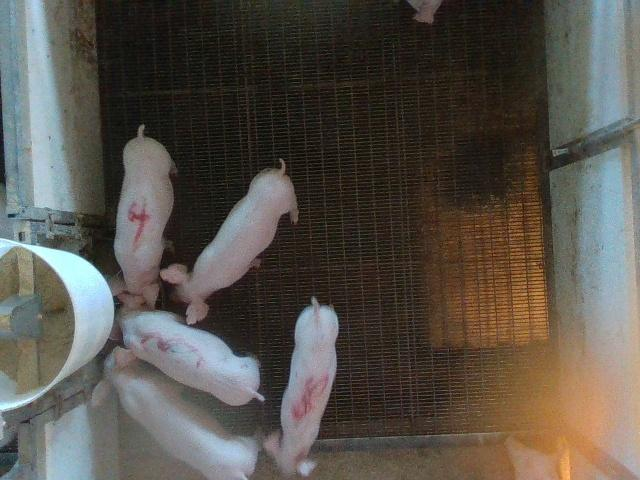pig-3: (111, 291, 264, 406)
pig-4: (111, 125, 175, 307)
pig-5: (262, 298, 339, 476)
